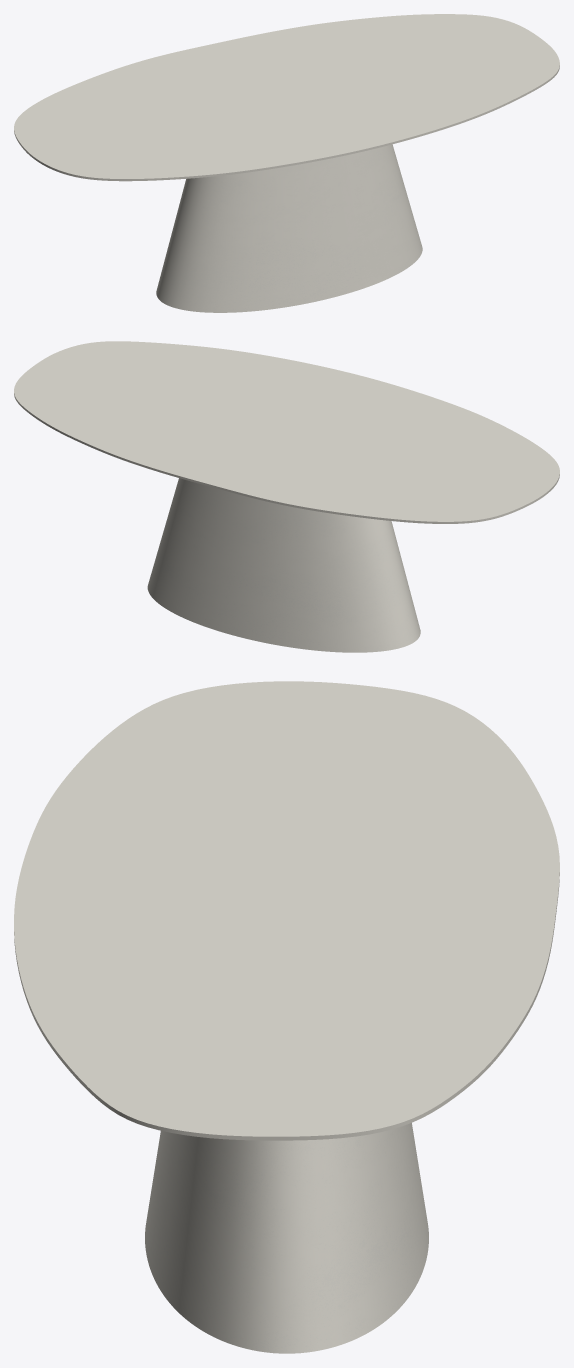
File: pale_danish_facet_eqone.glb
The picture shows the model from 3 angles, top to bottom: view 1: azimuth 30°, elevation 25°; view 2: azimuth 150°, elevation 25°; view 3: azimuth 270°, elevation 25°; orthographic projection. The views are drawn at different scales.
Visible parts, largest first — view 1: facet_danish, eqone; view 2: facet_danish, eqone; view 3: facet_danish, eqone.
Boxes of the visible parts, x1=… form: facet_danish: x1=14, y1=14, x2=559, y2=181; eqone: x1=156, y1=144, x2=422, y2=312; facet_danish: x1=14, y1=341, x2=559, y2=523; eqone: x1=147, y1=478, x2=420, y2=652; facet_danish: x1=14, y1=681, x2=559, y2=1140; eqone: x1=145, y1=1123, x2=428, y2=1353.
Bounding box in the file's own units: 7.5 × 2.5 × 3.8.
1 material, 1 textured.
